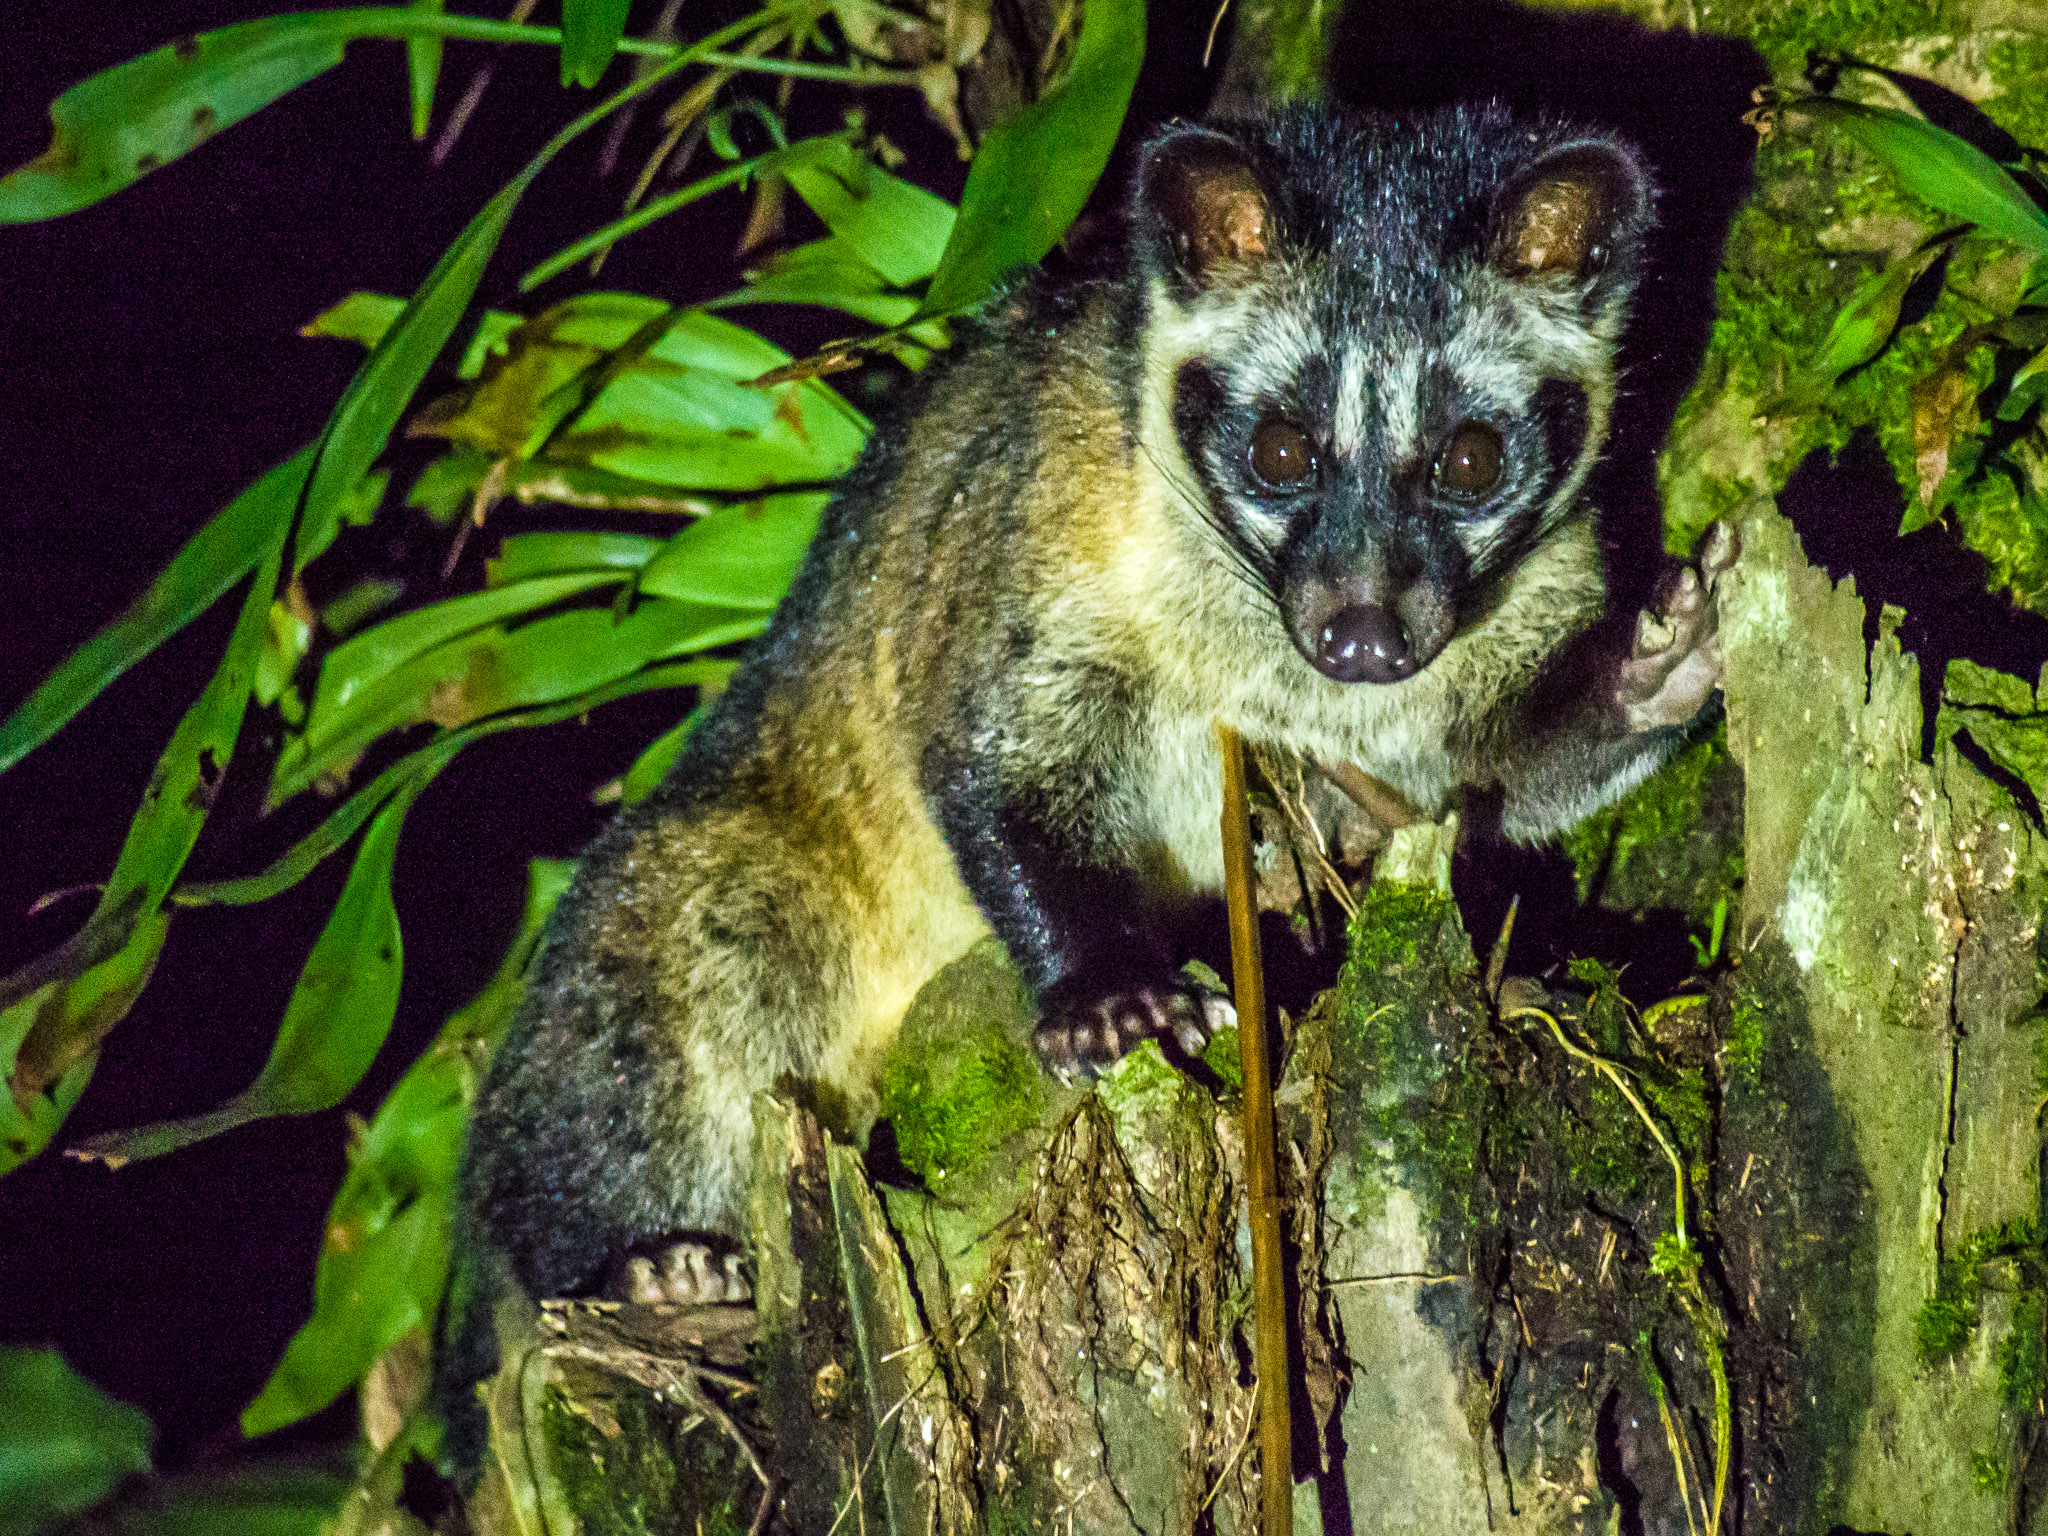Civet: (871, 45, 1709, 1149)
